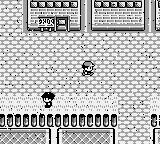main: (82, 62, 95, 75)
no-caminable: (27, 0, 81, 31), (1, 113, 116, 127), (92, 0, 144, 30), (58, 129, 115, 143), (1, 128, 50, 143), (155, 0, 160, 31), (151, 114, 160, 127), (154, 128, 160, 143)
npc: (42, 93, 54, 107)
puerta: (57, 17, 68, 30)
